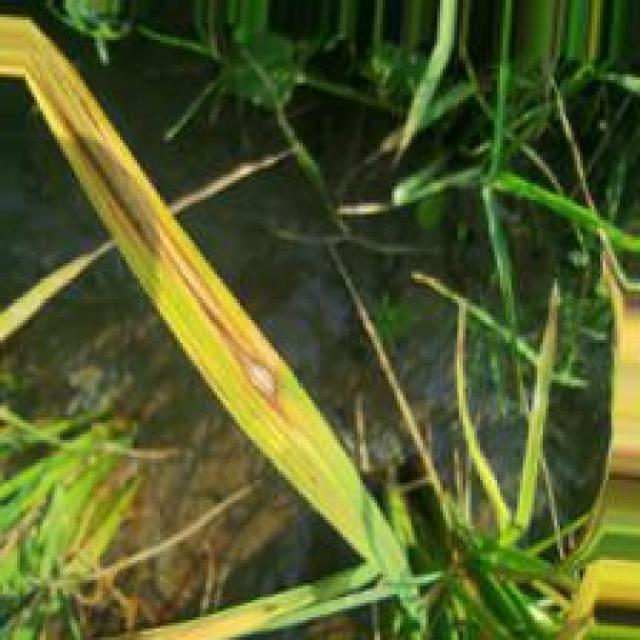Leaf_Blast: (26, 19, 287, 422)
